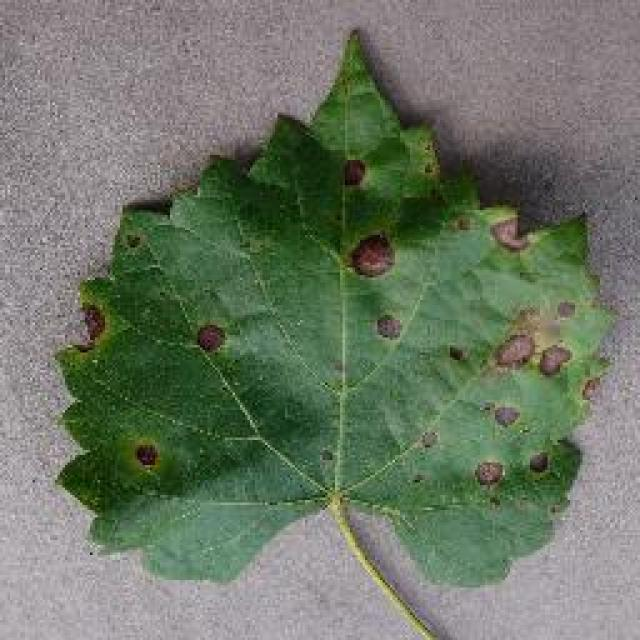Grape___Black_rot: (49, 27, 624, 591)
